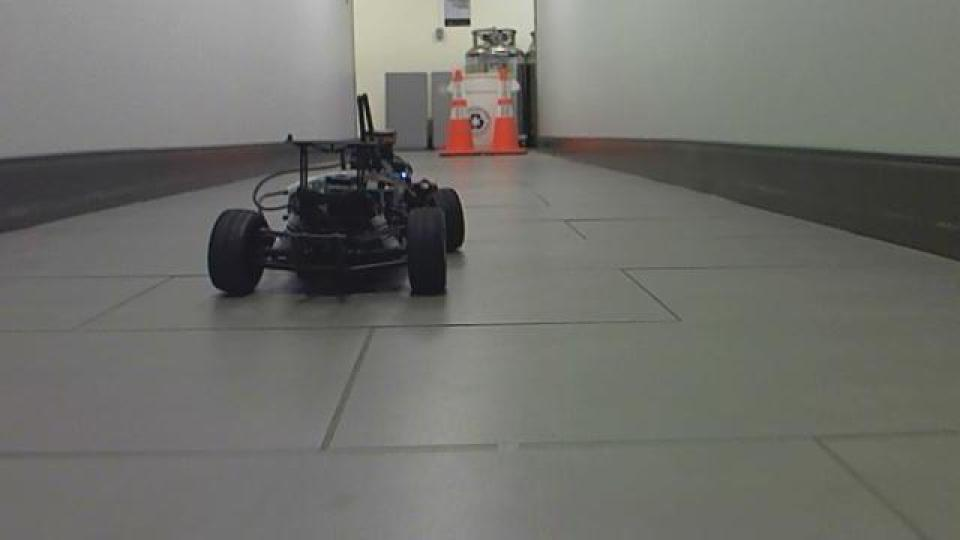car: (204, 91, 468, 302)
